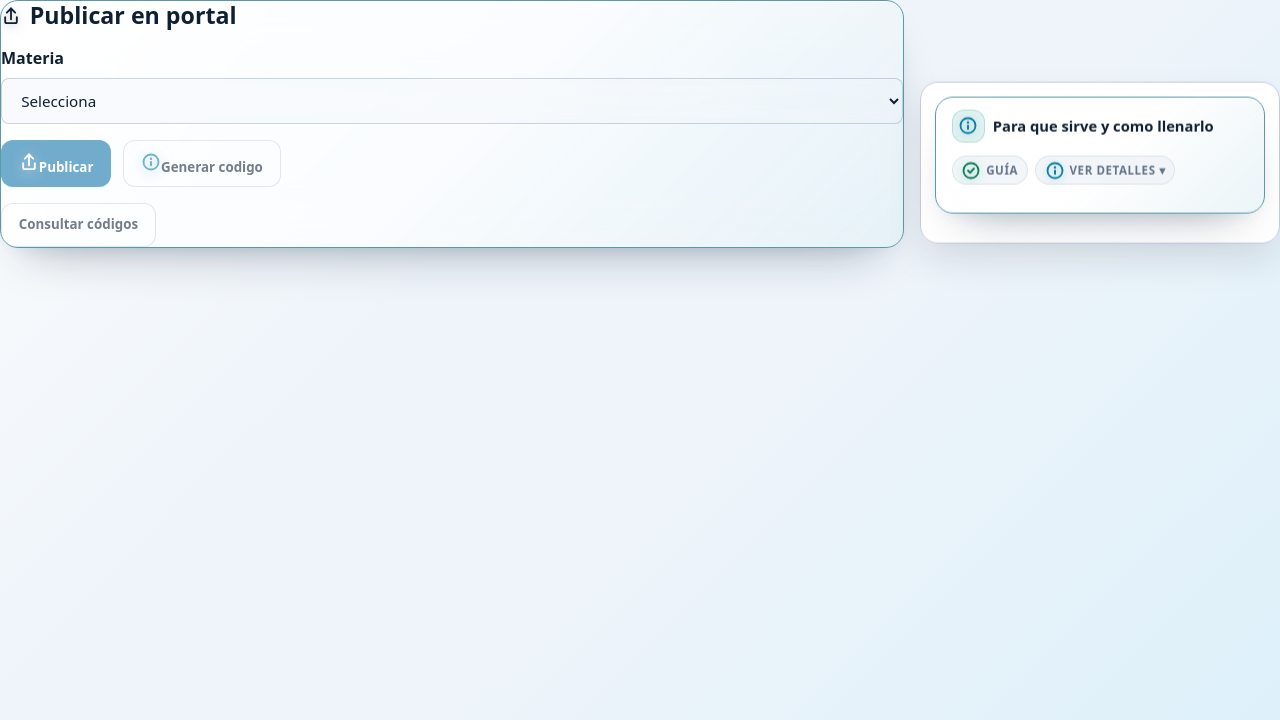
Test: expira un código local solo después de confirmación y conserva aviso de sincronización
Select "Física Cuántica (ID: per-1)" in the dropdown labelled "Materia" at (452, 101), box x1=1 y1=78 x2=903 y2=124
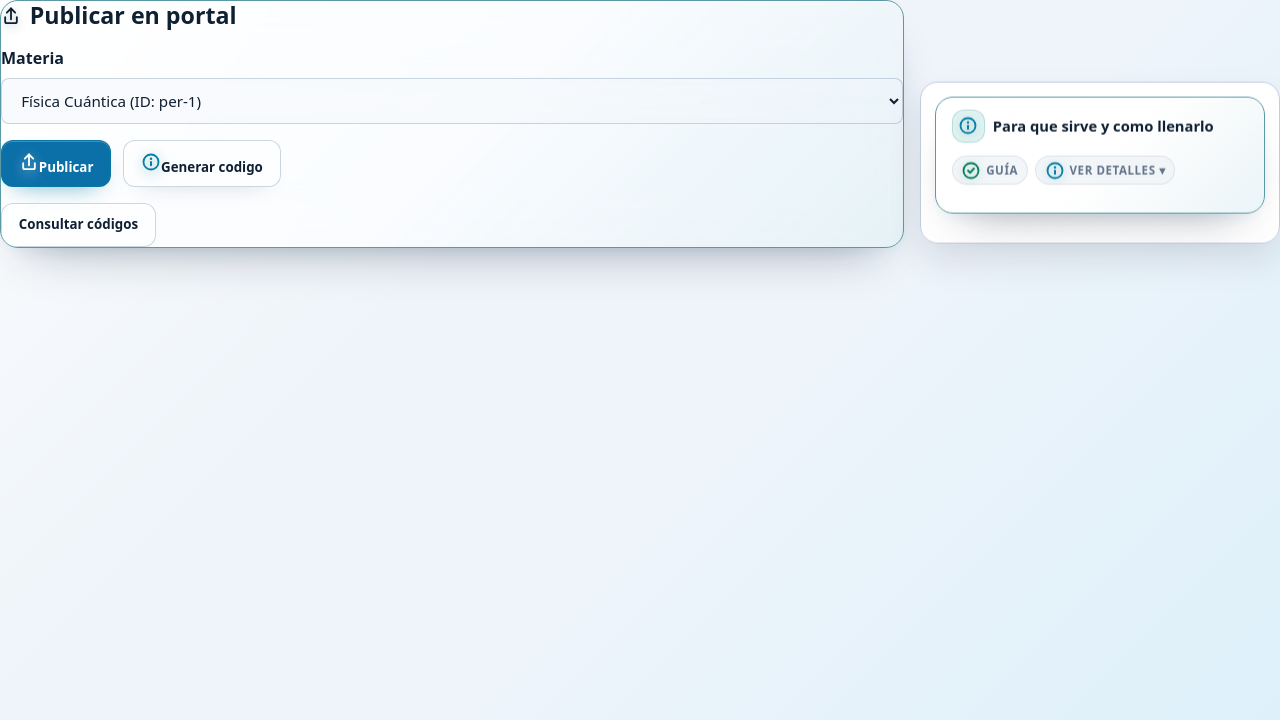
Click the button "Consultar códigos" at (78, 225), box x1=1 y1=203 x2=156 y2=247
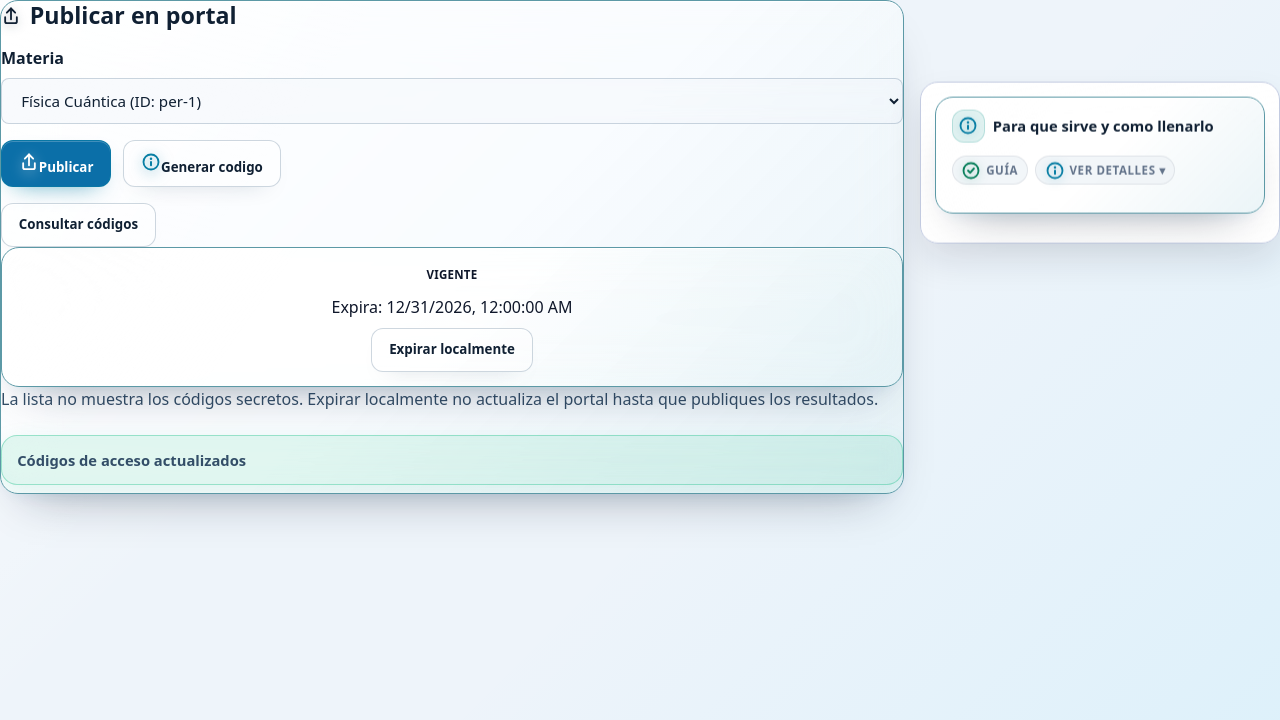
Expected: the text "vigente" is shown, x1=427 y1=266 x2=477 y2=282
Click the button "Expirar localmente" at (452, 350), box x1=371 y1=328 x2=533 y2=372
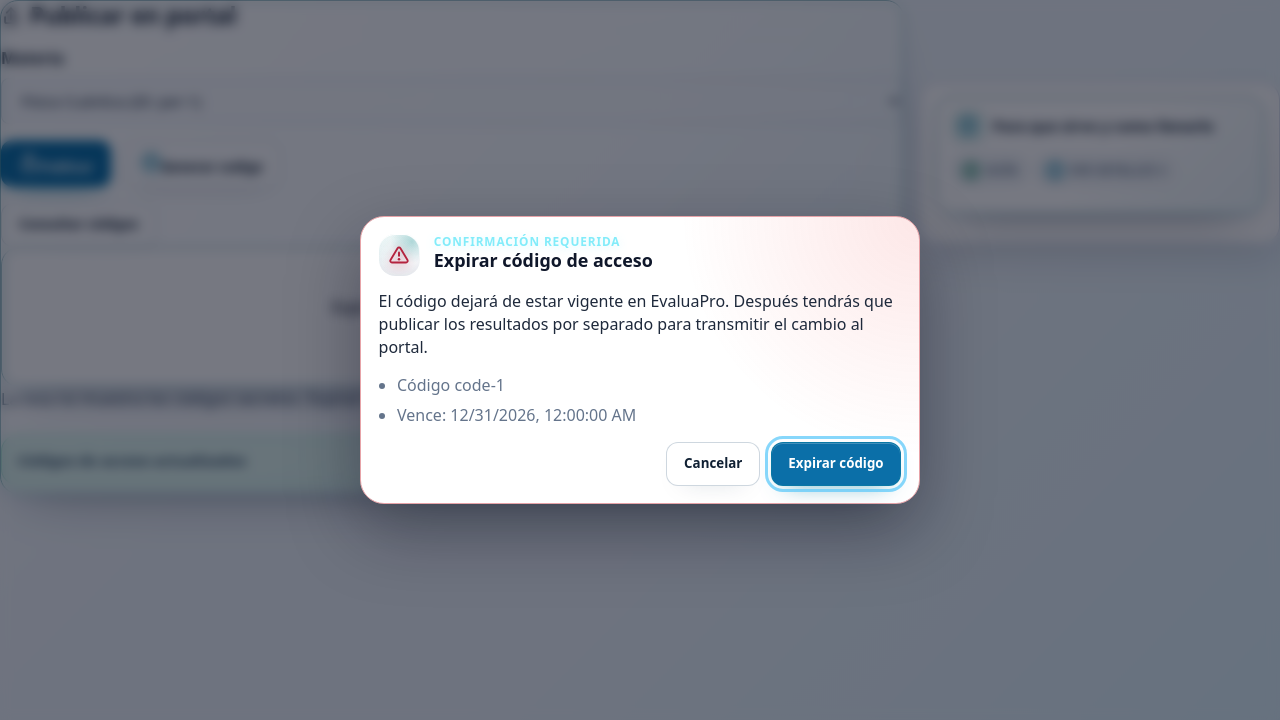
Expected: the dialog shows "publicar los resultados por separado", x1=379 y1=290 x2=893 y2=358
Click the button "Cancelar" at (713, 464), box x1=666 y1=442 x2=760 y2=486
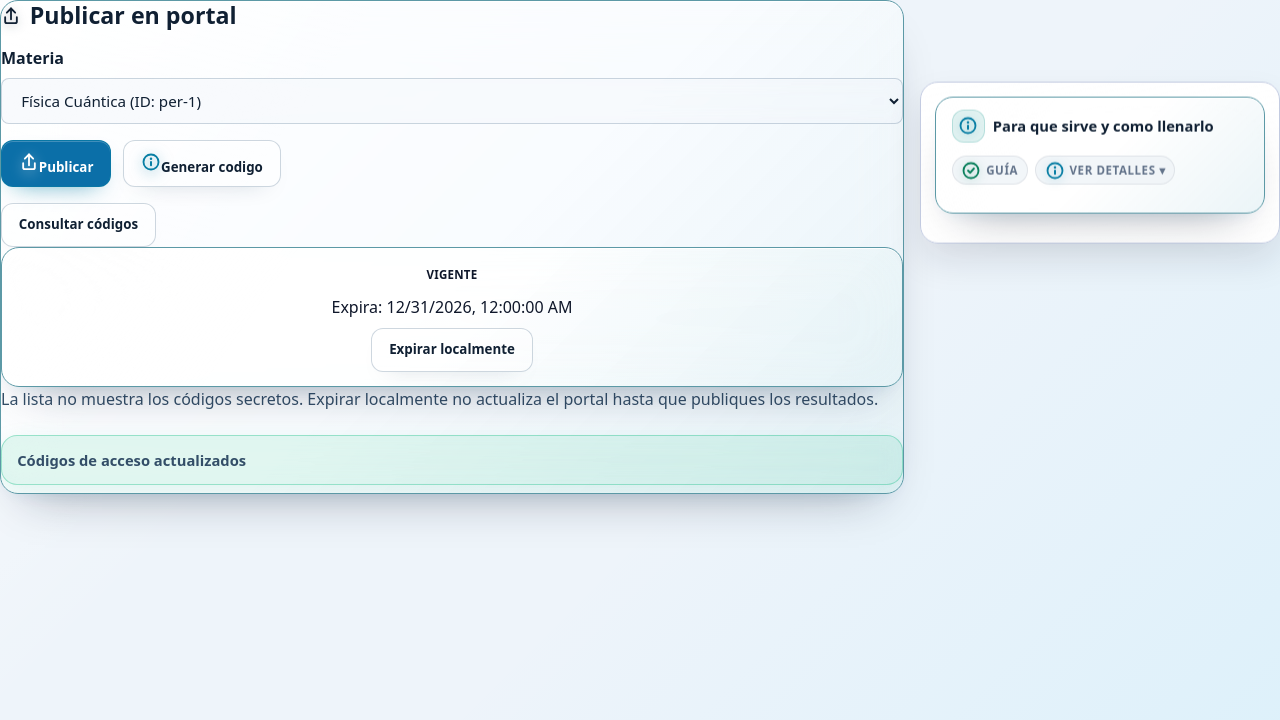
Click the button "Expirar localmente" at (452, 350), box x1=371 y1=328 x2=533 y2=372
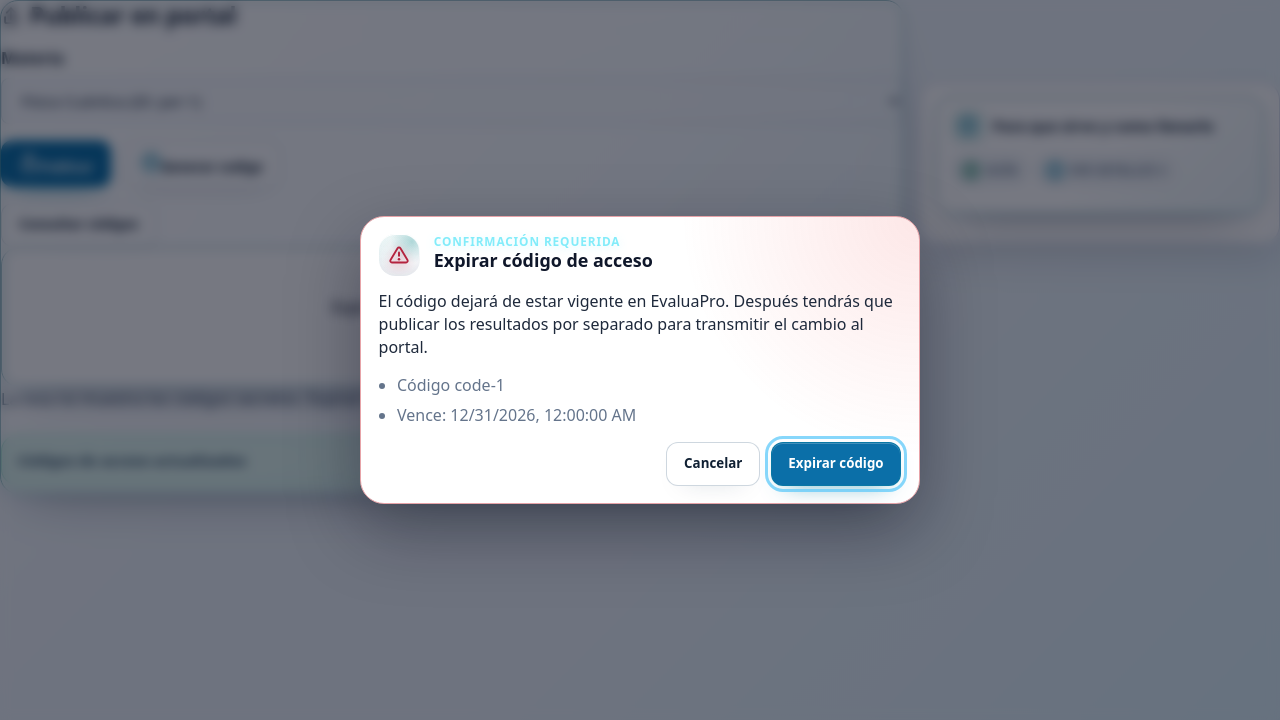
Click the button "Expirar código" at (836, 464), box x1=770 y1=442 x2=901 y2=486
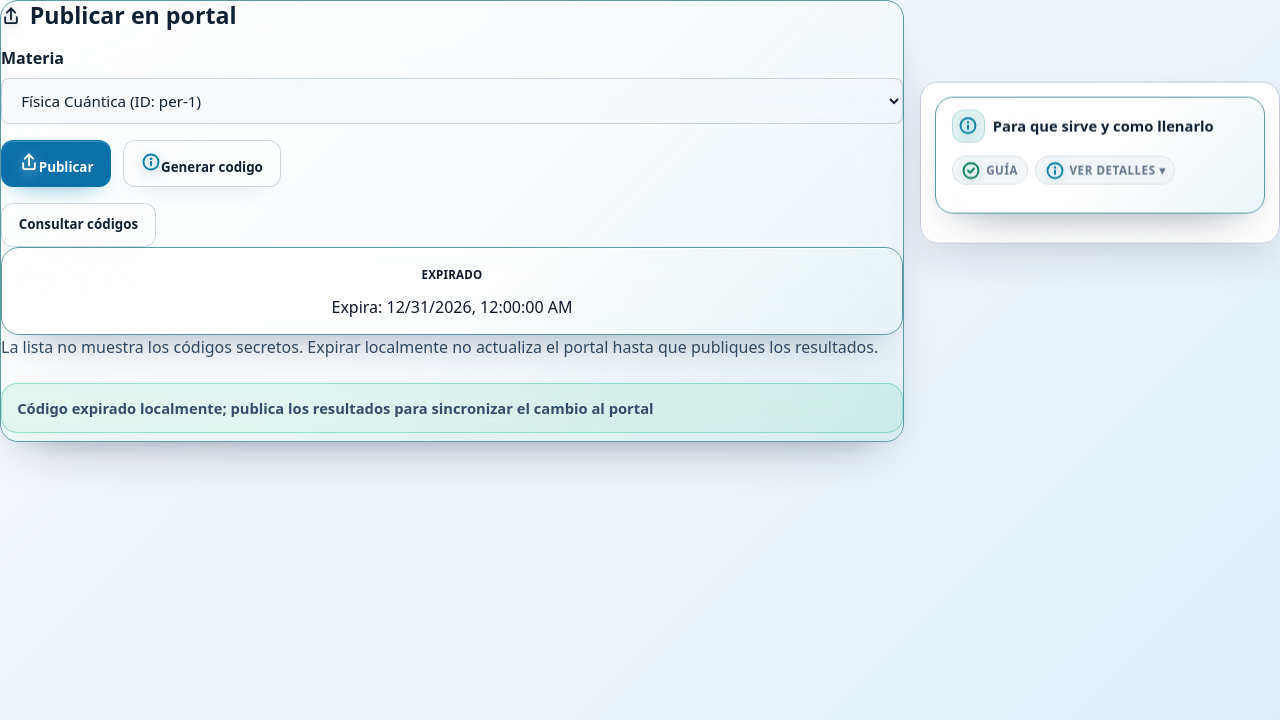
Expected: the text "publica los resultados para sincronizar" is shown, x1=17 y1=398 x2=654 y2=418
Expected: the text "expirado" is shown, x1=422 y1=266 x2=482 y2=282
